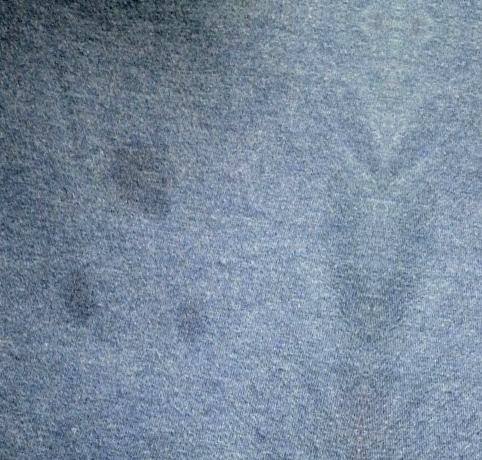stain: (106, 142, 195, 219), (56, 264, 109, 335), (172, 300, 211, 352)
